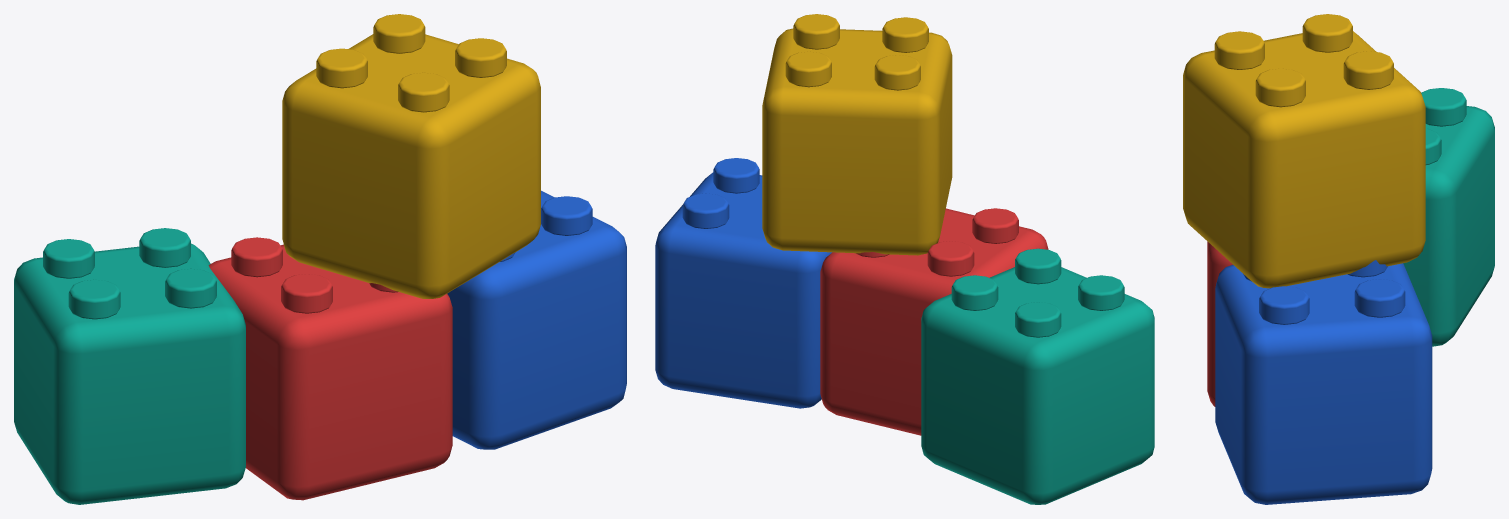
The model's file is ENV_ToyBlocks.glb.
3 views of the same model, side by side, from view 1: azimuth 30°, elevation 25°; view 2: azimuth 150°, elevation 25°; view 3: azimuth 270°, elevation 25° (orthographic). The views are drawn at different scales.
Visible parts, largest first — view 1: Blocks; view 2: Blocks; view 3: Blocks.
Part boxes in pixels (x1,y1,x2,y2): Blocks: (14, 14, 626, 504); Blocks: (655, 14, 1154, 504); Blocks: (1183, 14, 1494, 504).
Bounding box in the file's own units: 3.09 × 2.11 × 1.61.
